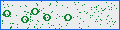o: (64, 14, 72, 21), (43, 14, 51, 21), (31, 8, 39, 15), (21, 16, 29, 23), (3, 10, 11, 17)
